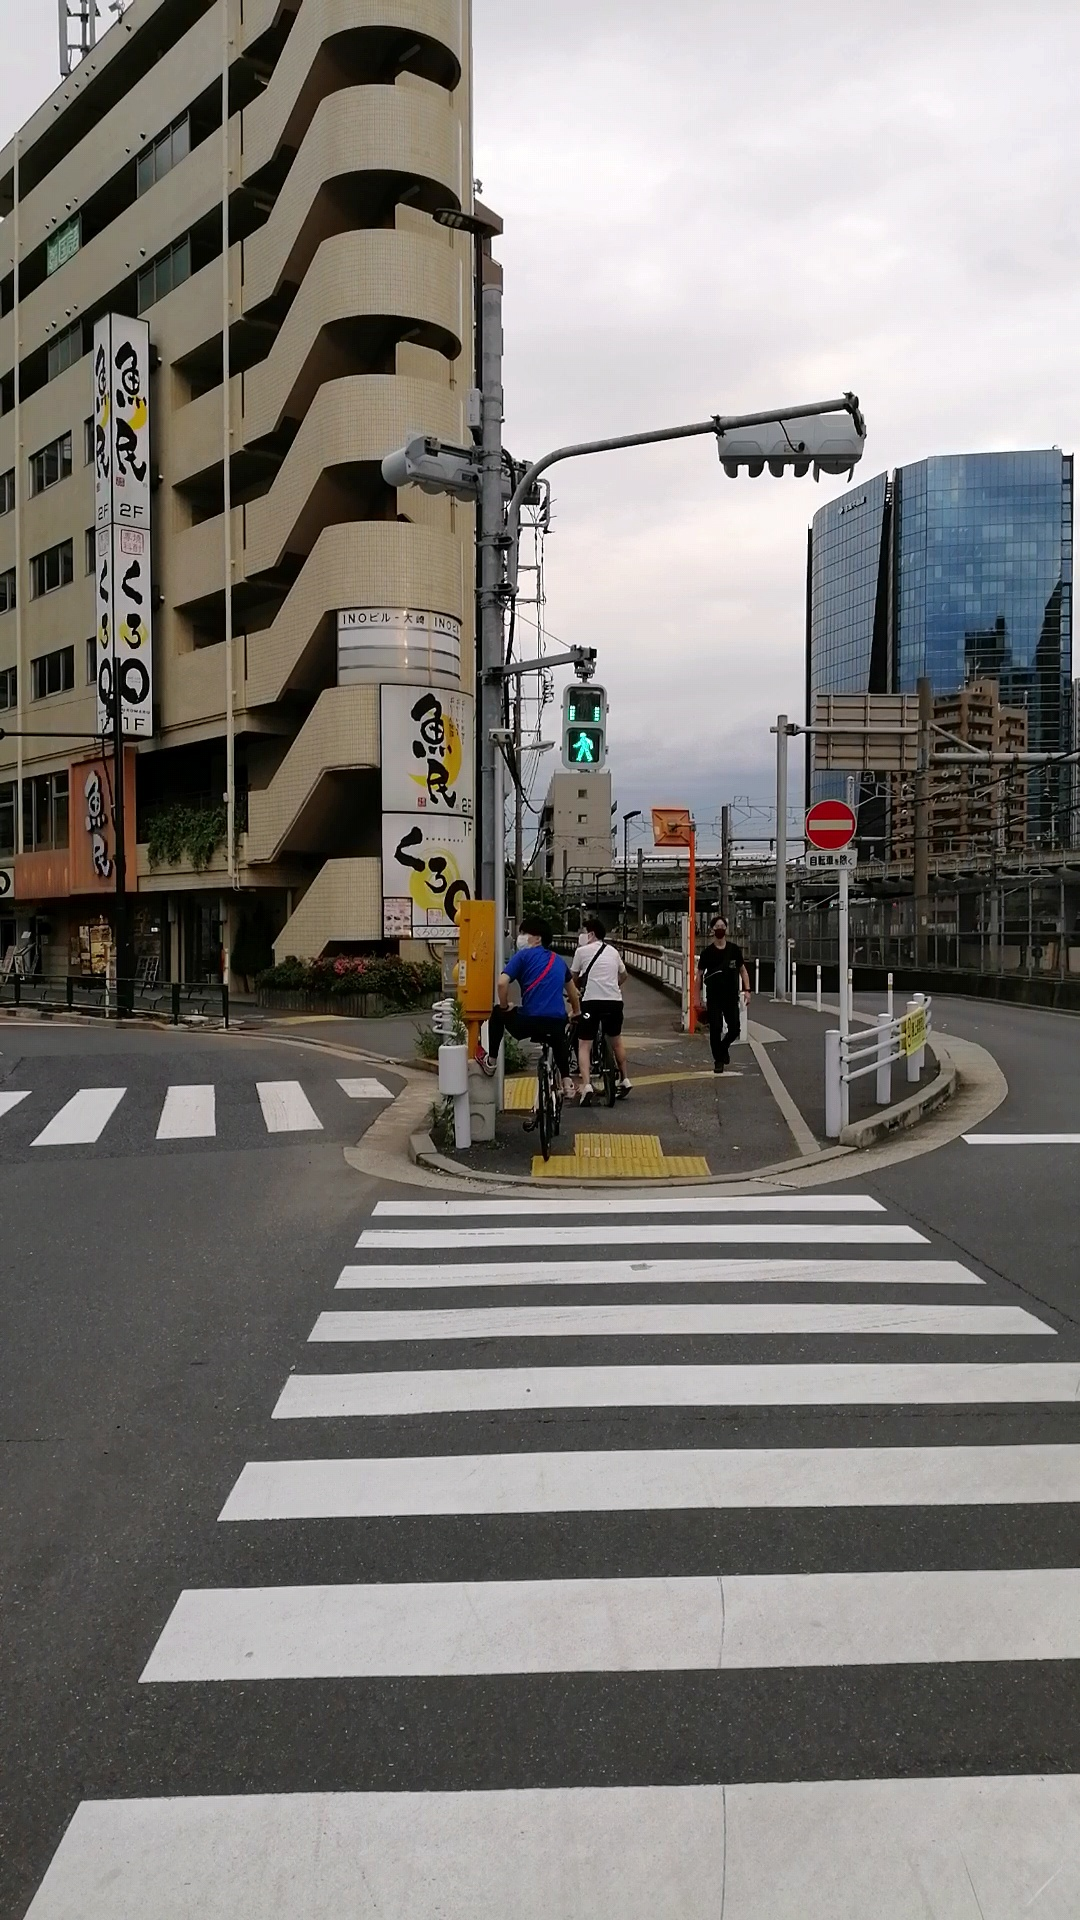green: (562, 683, 608, 770)
